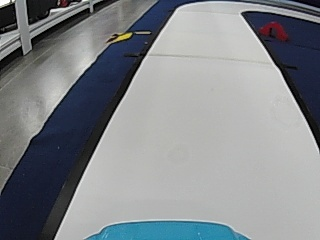bridge: (260, 21, 288, 42)
